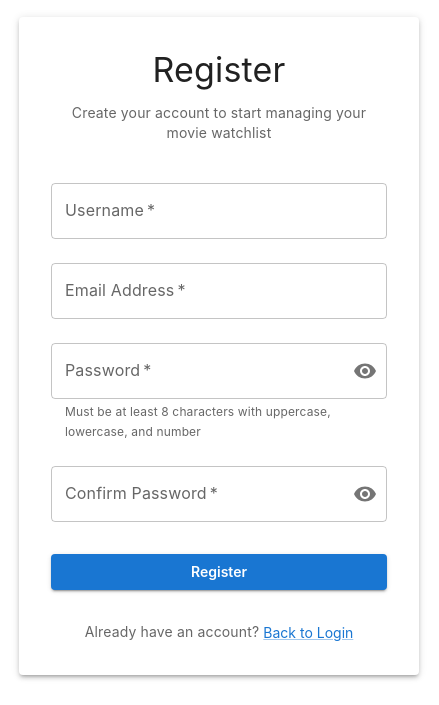
Test case: RegisterForm › should show validation errors for empty fields
Click the button "Register": (219, 572) [51,554,387,590]
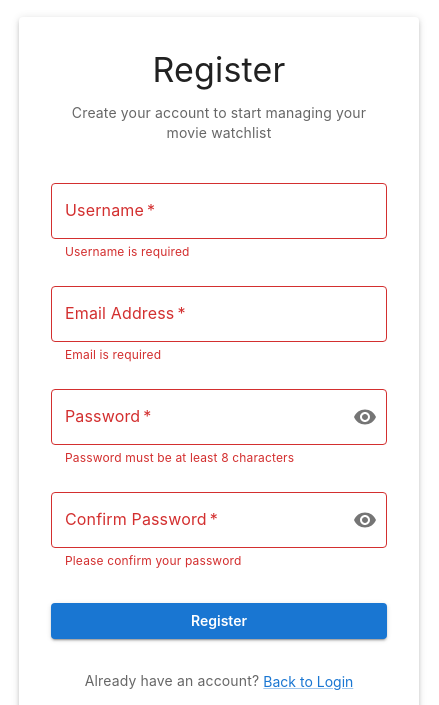
Expected: the text "Username is required" is shown, [65,244,190,259]
Expected: the text "Email is required" is shown, [65,347,161,362]
